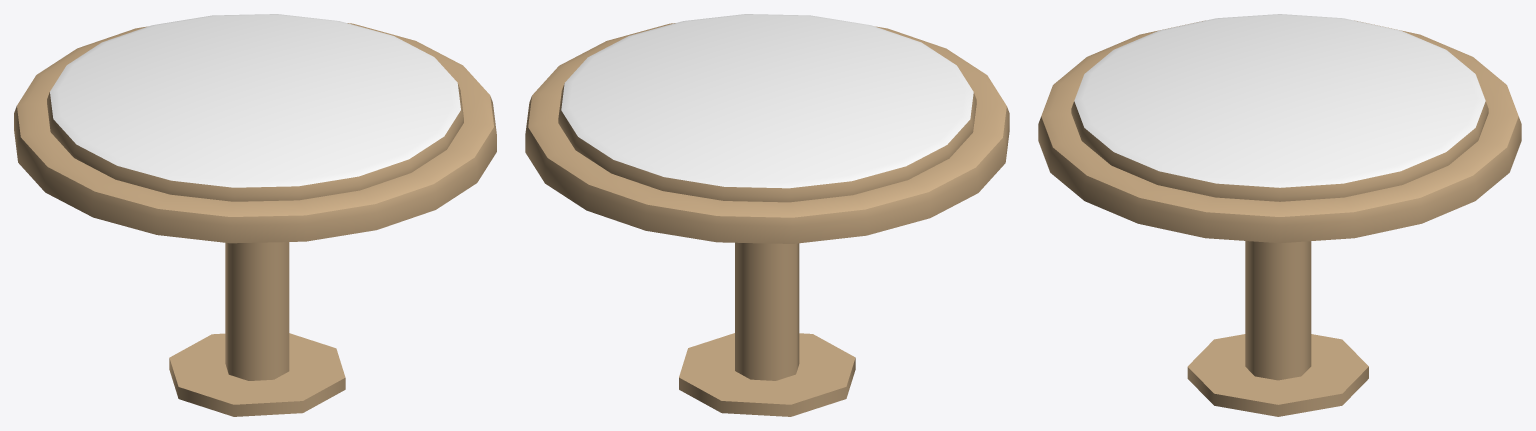
The model's file is SM_table_03.fbx.
3 renders of one model, left to right at view 1: azimuth 30°, elevation 25°; view 2: azimuth 150°, elevation 25°; view 3: azimuth 270°, elevation 25°, orthographic.
Parts seen in each view (by area): view 1: Cylinder015; view 2: Cylinder015; view 3: Cylinder015.
Part boxes in pixels (x1,y1,x2,y2): Cylinder015: (14,14,496,416); Cylinder015: (525,14,1009,416); Cylinder015: (1038,14,1521,416).
Bounding box in the file's own units: 63.71 × 40.69 × 63.71.
